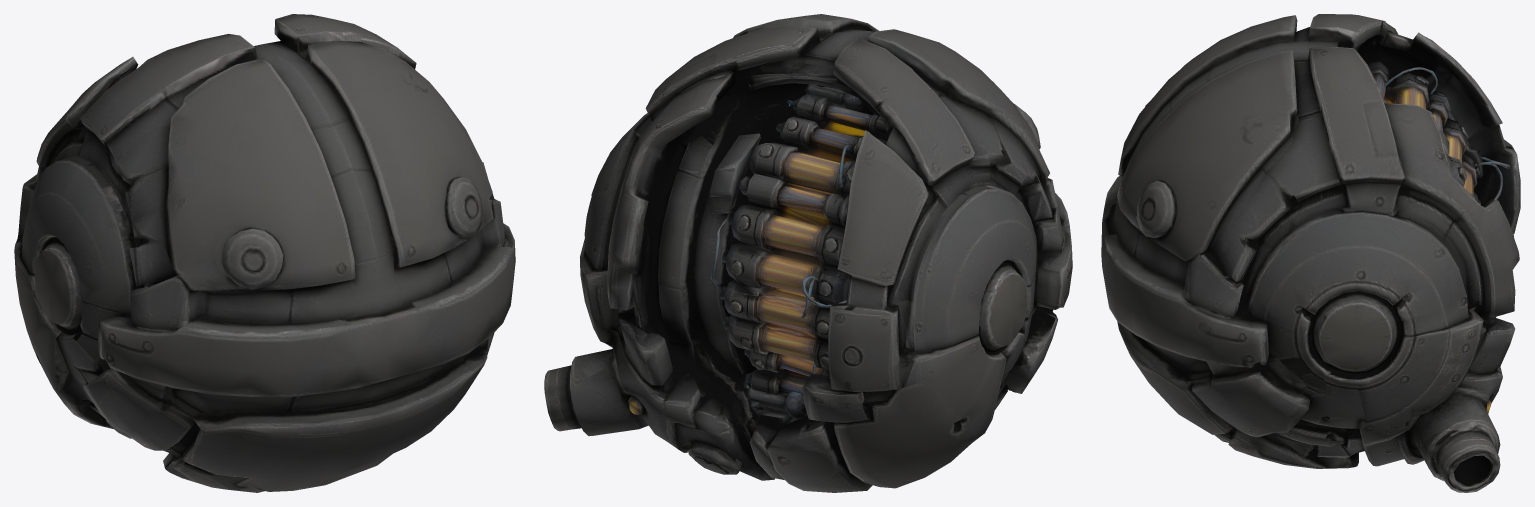
File: bastion-orb.glb
The picture shows the model from 3 angles, left to right: view 1: azimuth 30°, elevation 25°; view 2: azimuth 150°, elevation 25°; view 3: azimuth 270°, elevation 25°; orthographic projection. The views are drawn at different scales.
Parts seen in each view (by area): view 1: tripo_node_93e3215f-0e22-48dc-b0a3-cd189a516b86; view 2: tripo_node_93e3215f-0e22-48dc-b0a3-cd189a516b86; view 3: tripo_node_93e3215f-0e22-48dc-b0a3-cd189a516b86.
Boxes of the visible parts, x1,y1,x2,y2 form: tripo_node_93e3215f-0e22-48dc-b0a3-cd189a516b86: [14, 14, 515, 492]; tripo_node_93e3215f-0e22-48dc-b0a3-cd189a516b86: [544, 14, 1072, 492]; tripo_node_93e3215f-0e22-48dc-b0a3-cd189a516b86: [1101, 14, 1520, 492].
Size of the model in its own units: 0.998 by 0.998 by 0.9277.
1 material, 1 textured.
